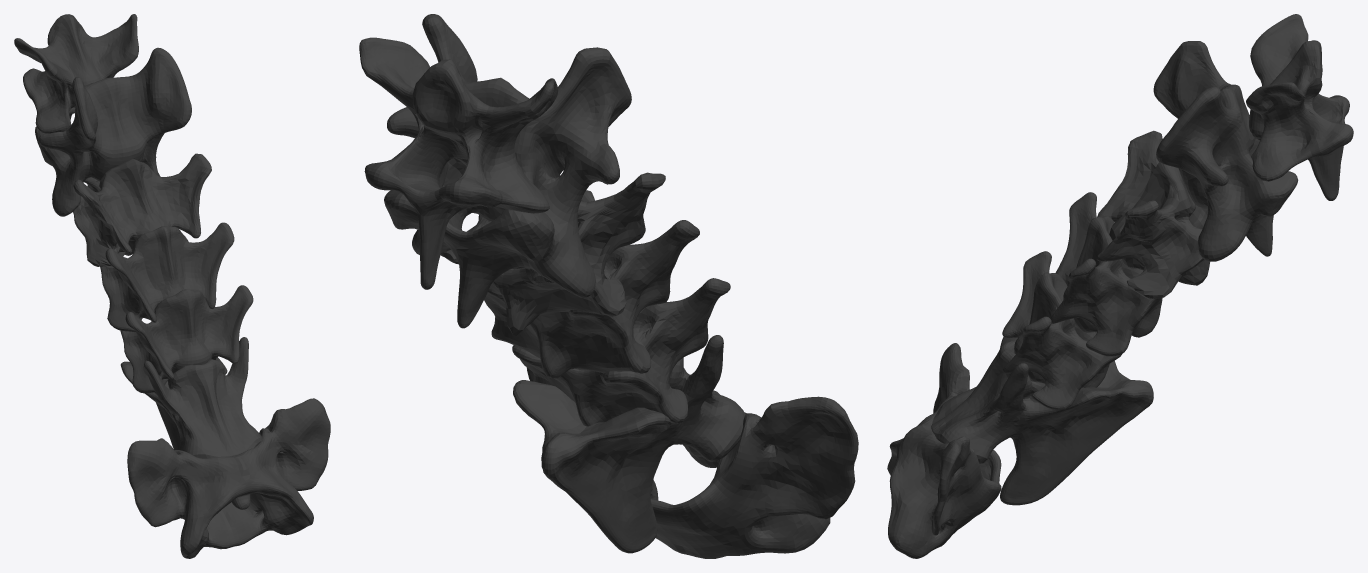
The model's file is Spine_cervical_1.glb.
3 renders of one model, left to right at view 1: azimuth 30°, elevation 25°; view 2: azimuth 150°, elevation 25°; view 3: azimuth 270°, elevation 25°, orthographic. The views are drawn at different scales.
Parts seen in each view (by area): view 1: Spine_cervical_1; view 2: Spine_cervical_1; view 3: Spine_cervical_1.
Boxes of the visible parts, left/top/right/bottom form: Spine_cervical_1: left=14, top=14, right=330, bottom=558; Spine_cervical_1: left=359, top=14, right=858, bottom=558; Spine_cervical_1: left=887, top=14, right=1353, bottom=558.
Bounding box in the file's own units: 0.00225 × 0.00446 × 0.00383.
Materials: 1 (1 with a texture image).
